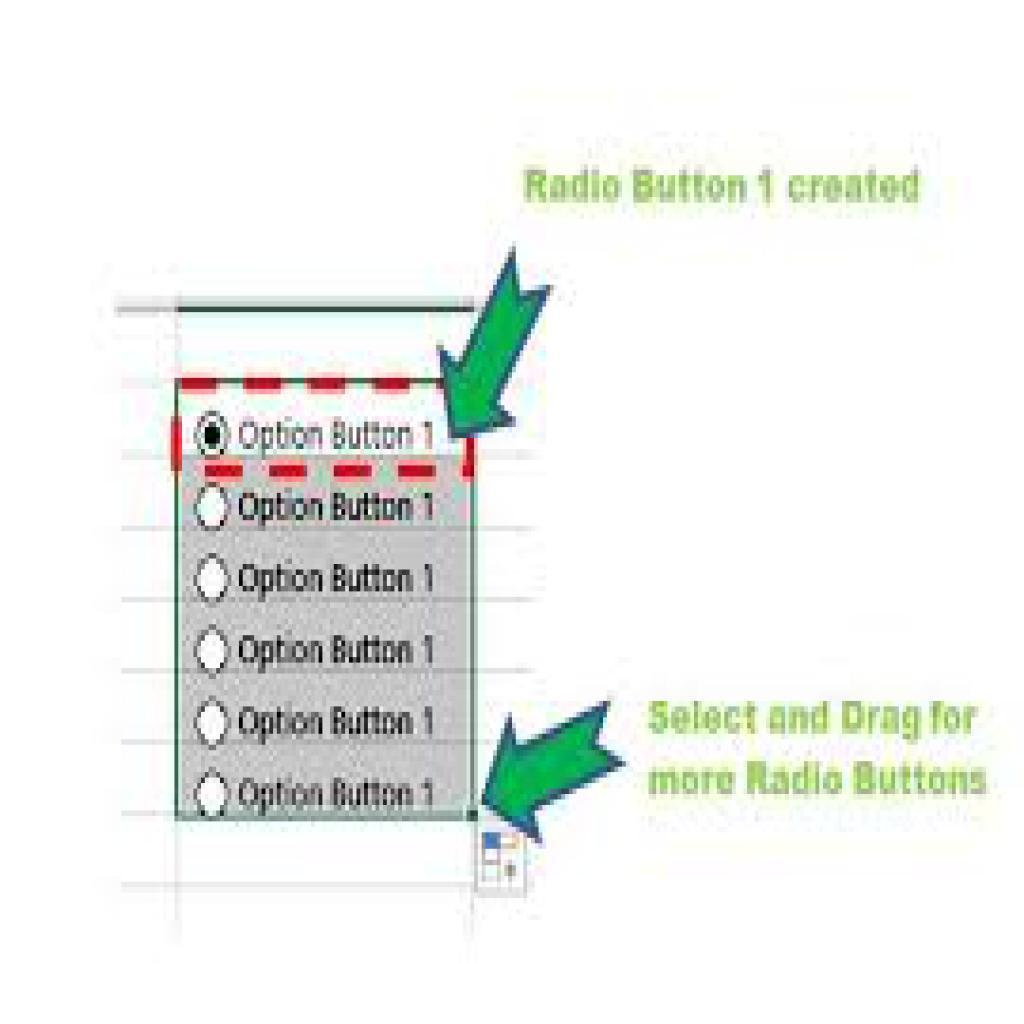radio: (192, 695, 235, 748), (192, 625, 232, 677), (196, 407, 232, 461), (194, 554, 232, 605), (192, 772, 232, 819), (196, 483, 230, 530)
